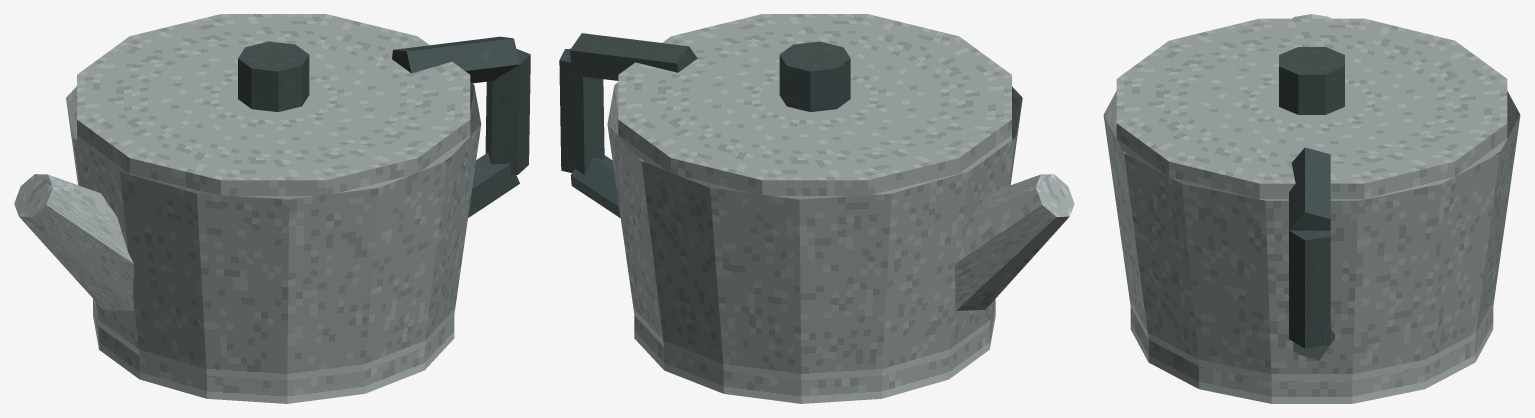
Rendered from kettle.glb.
The picture shows the model from 3 angles, left to right: view 1: azimuth 30°, elevation 25°; view 2: azimuth 150°, elevation 25°; view 3: azimuth 270°, elevation 25°; orthographic projection.
Parts seen in each view (by area): view 1: block_vessel wall, block_lid, block_spout, block_pressed base, block_knob, block_insulated handle 1, block_insulated handle 2, block_insulated handle 0; view 2: block_vessel wall, block_lid, block_spout, block_pressed base, block_knob, block_insulated handle 1, block_insulated handle 2, block_insulated handle 0; view 3: block_vessel wall, block_lid, block_pressed base, block_insulated handle 1, block_knob, block_insulated handle 2, block_insulated handle 0.
Part boxes in pixels (x1,y1,x2,y2): block_vessel wall: (66,82,481,380); block_lid: (77,14,470,203); block_spout: (14,174,133,310); block_pressed base: (93,299,454,403); block_knob: (238,41,309,111); block_insulated handle 1: (485,49,530,174); block_insulated handle 2: (392,36,519,83); block_insulated handle 0: (468,152,519,217); block_vessel wall: (607,82,1022,380); block_lid: (618,14,1011,203); block_spout: (954,174,1074,310); block_pressed base: (634,299,995,403); block_knob: (779,41,850,111); block_insulated handle 1: (559,48,604,174); block_insulated handle 2: (570,33,697,80); block_insulated handle 0: (570,155,620,217); block_vessel wall: (1103,91,1520,380); block_lid: (1116,18,1507,200); block_pressed base: (1130,307,1493,403); block_insulated handle 1: (1289,230,1330,348); block_knob: (1279,47,1344,114); block_insulated handle 2: (1289,147,1330,230); block_insulated handle 0: (1293,329,1334,360).
Bounding box in the file's own units: 0.19 × 0.0966 × 0.136.
2 materials, 2 textured.
